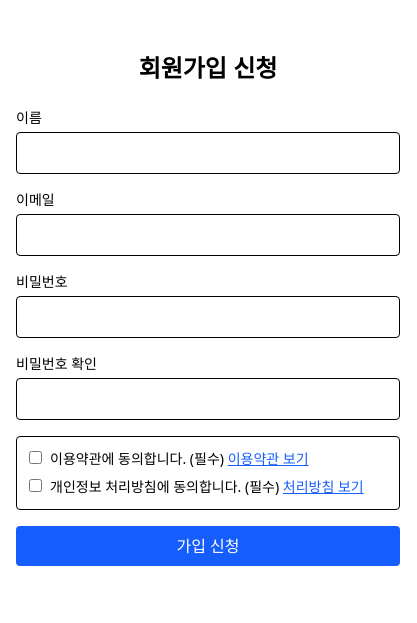
RegisterPage › 이름이 2자 미만이면 오류 메시지를 표시한다
In the field labelled "이름": (208, 153) [16,132,400,174], type "홍"
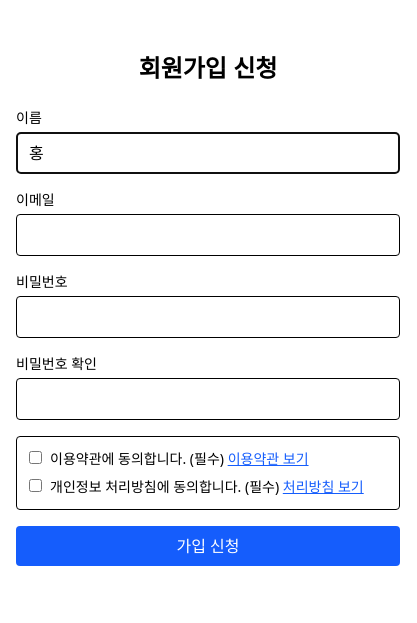
In the field labelled "이메일": (208, 235) [16,214,400,256], type "test@example.com"
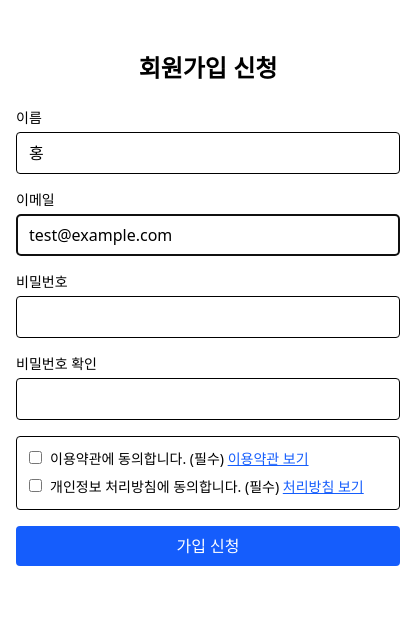
In the password field labelled "비밀번호": (208, 317) [16,296,400,338], type "Password1!"
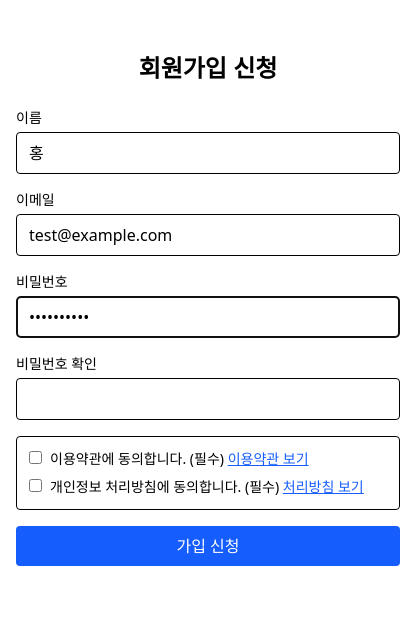
In the password field labelled "비밀번호 확인": (208, 399) [16,378,400,420], type "Password1!"
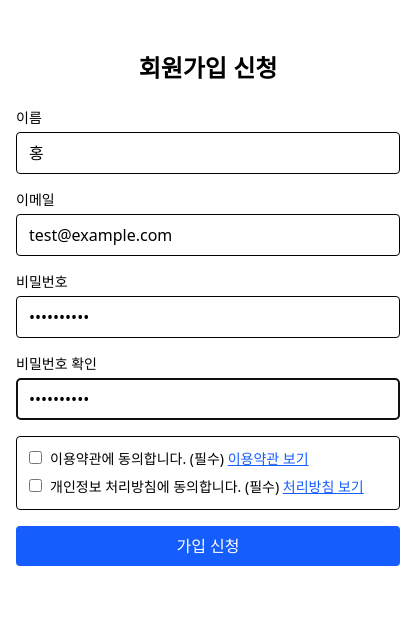
Click the button "가입 신청": (208, 546) [16,526,400,566]
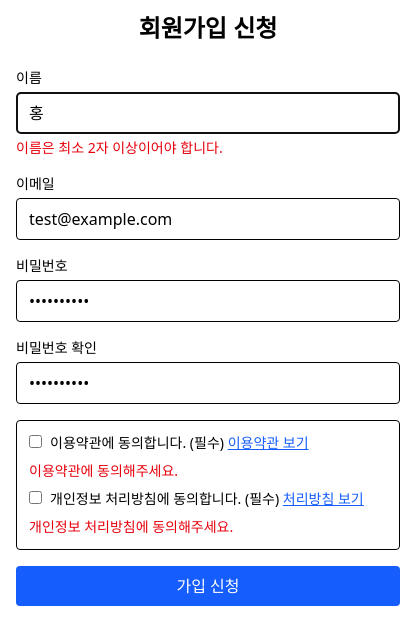
Check: the text "이름은 최소 2자 이상이어야 합니다." is shown, box [16,138,223,157]
